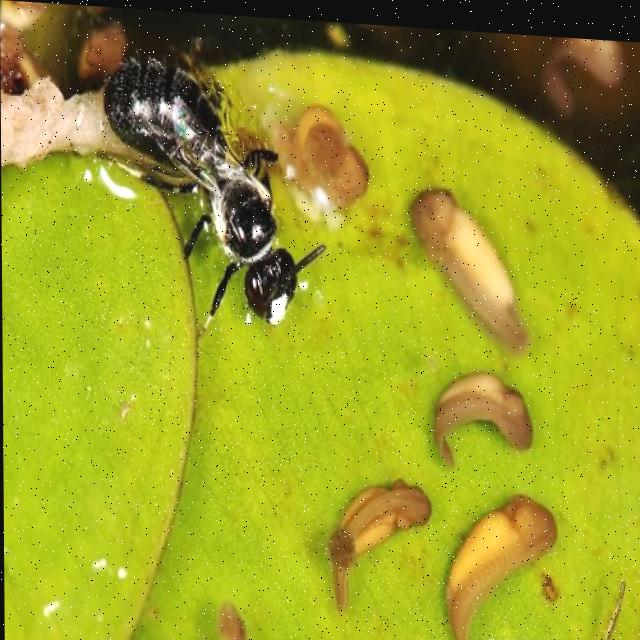Braunsapis: (91, 21, 348, 362)
